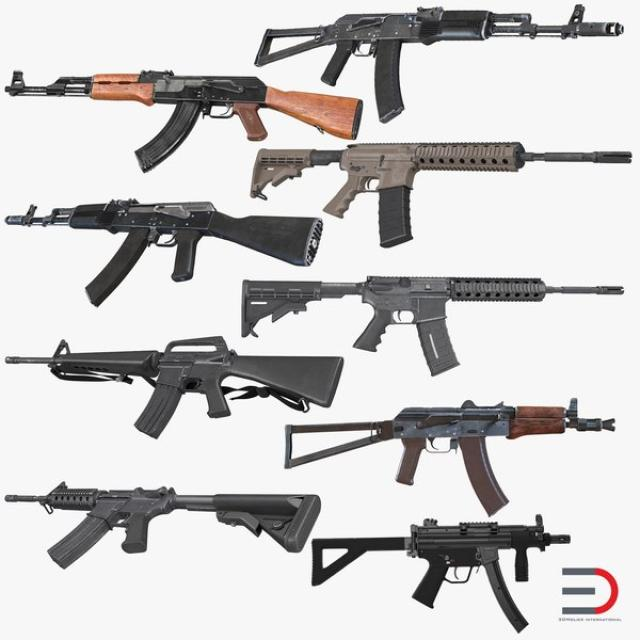Rifle: (6, 70, 636, 251), (255, 5, 628, 124), (284, 399, 619, 519), (242, 276, 627, 380), (6, 336, 348, 442), (7, 199, 326, 309), (6, 482, 325, 572)
SMG: (311, 514, 572, 635)
